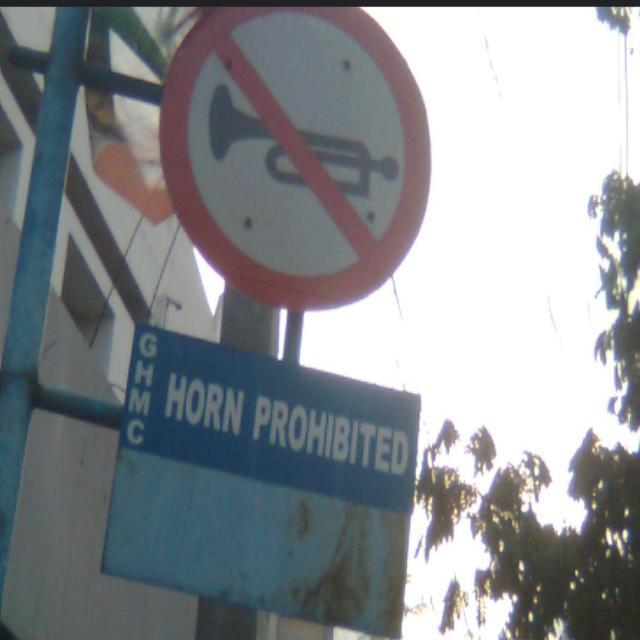horn prohibited: (159, 11, 435, 313)
